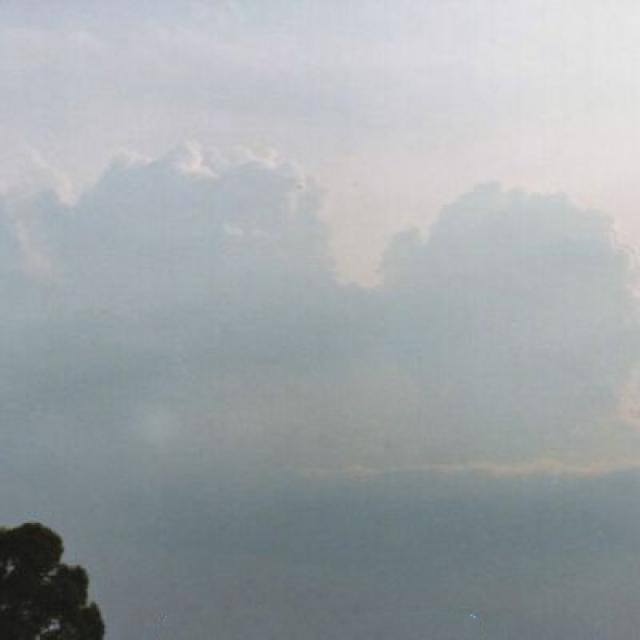Sc: (1, 45, 640, 495)
